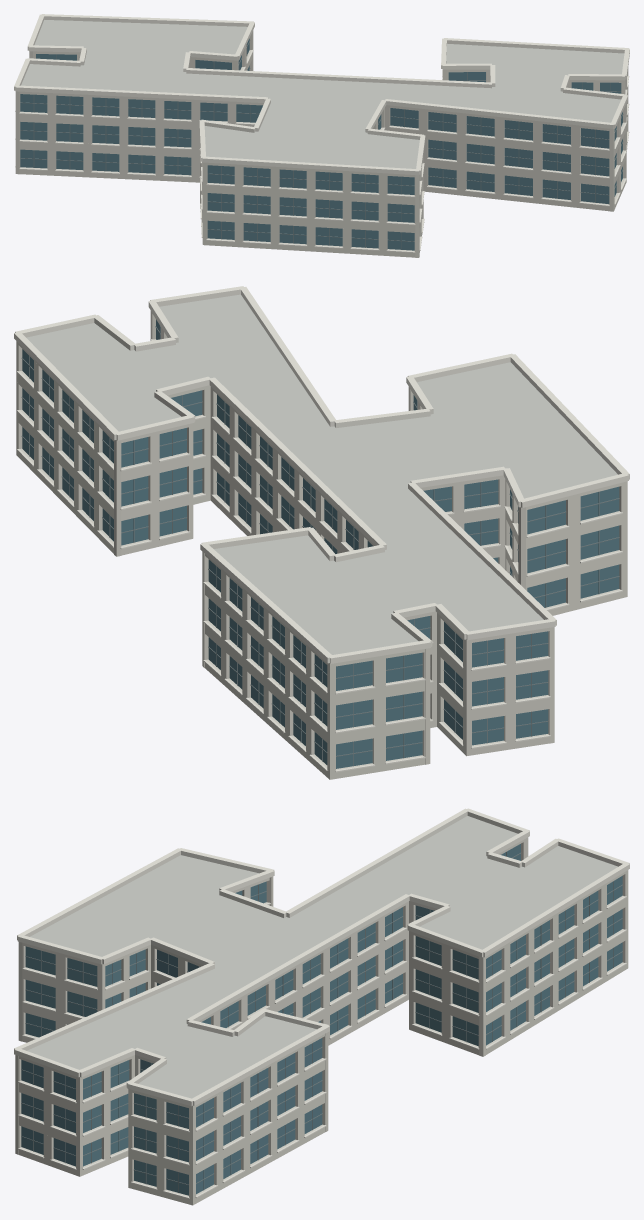
3 renders of one model, top to bottom at view 1: azimuth 30°, elevation 25°; view 2: azimuth 150°, elevation 25°; view 3: azimuth 270°, elevation 25°, orthographic. The views are drawn at different scales.
Visible parts, largest first — view 1: roof, wall, glass, trim, metal; view 2: roof, wall, glass, trim, metal; view 3: roof, wall, glass, trim, metal.
Boxes of the visible parts, bbox=[...] form: roof: bbox=[21, 20, 624, 168]; wall: bbox=[15, 30, 628, 257]; glass: bbox=[20, 38, 622, 250]; trim: bbox=[14, 14, 629, 252]; metal: bbox=[20, 41, 623, 249]; roof: bbox=[26, 294, 617, 654]; wall: bbox=[16, 310, 627, 779]; glass: bbox=[22, 319, 619, 768]; trim: bbox=[14, 286, 629, 772]; metal: bbox=[21, 325, 619, 766]; roof: bbox=[27, 816, 617, 1098]; wall: bbox=[15, 837, 628, 1205]; glass: bbox=[21, 844, 622, 1195]; trim: bbox=[14, 808, 629, 1198]; metal: bbox=[21, 851, 622, 1192].
Size of the model in its own units: 58.48 by 9.74 by 51.94.
